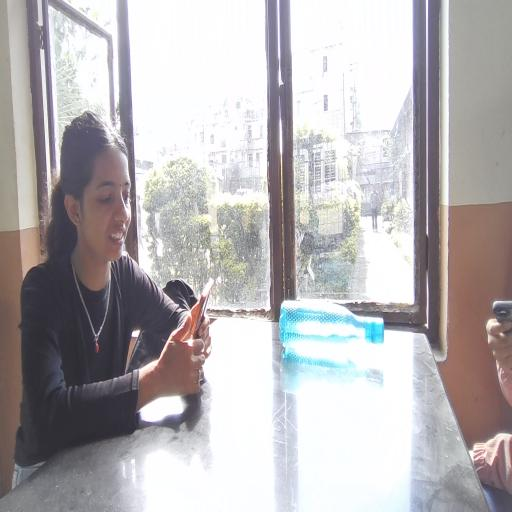Bottle: (269, 290, 390, 357)
